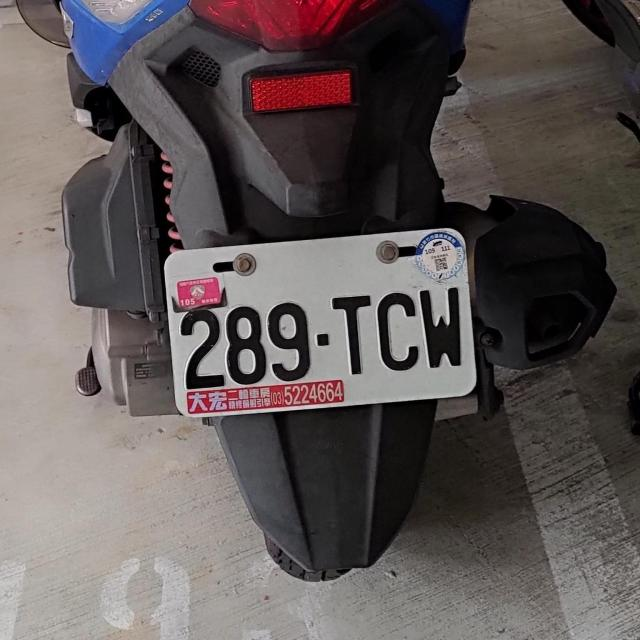W: (164, 231, 482, 418)
